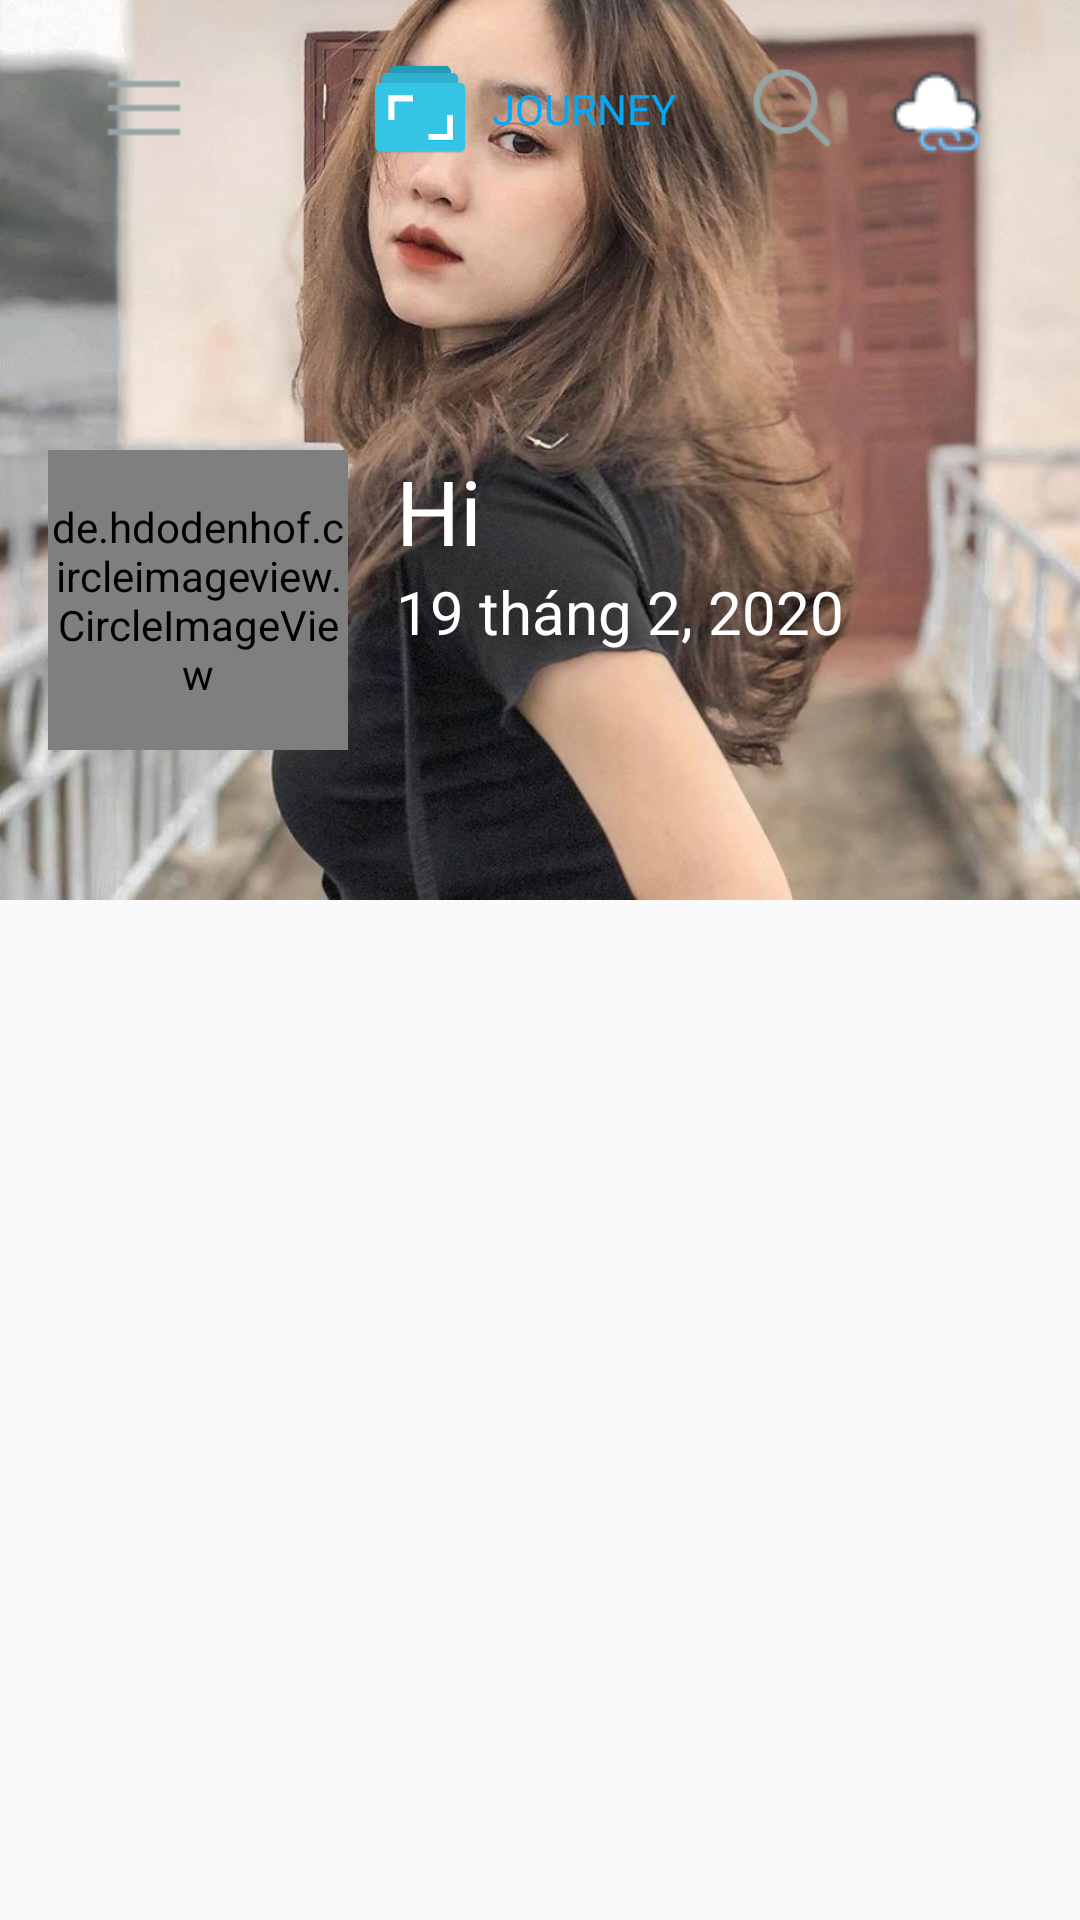

Named icons in this screenshot (1080×1920) and their centers, (x,y):
clould: (936,108)
menu: (138,108)
search: (792,108)
